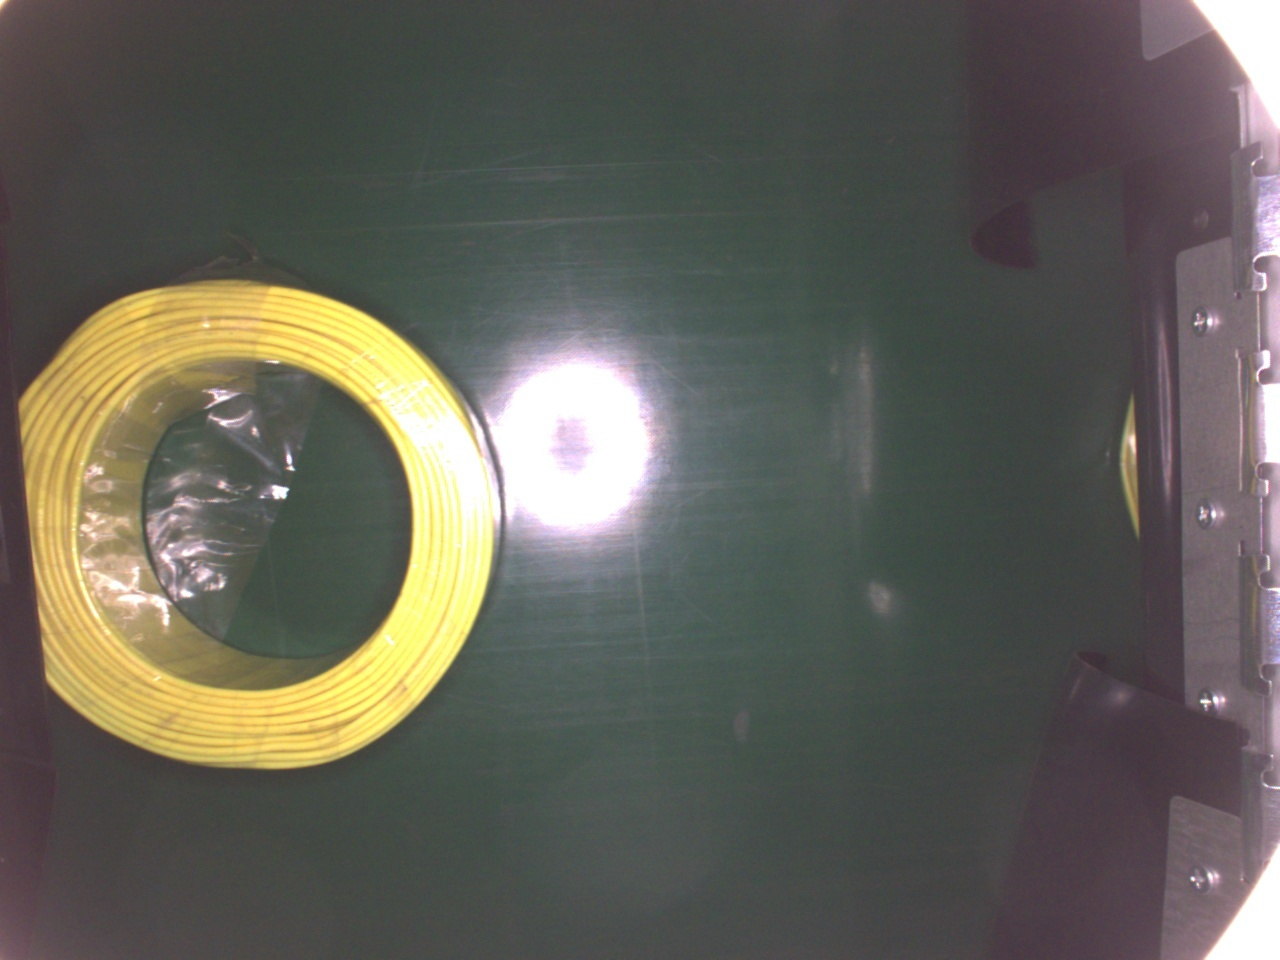yellow: (18, 273, 502, 770)
